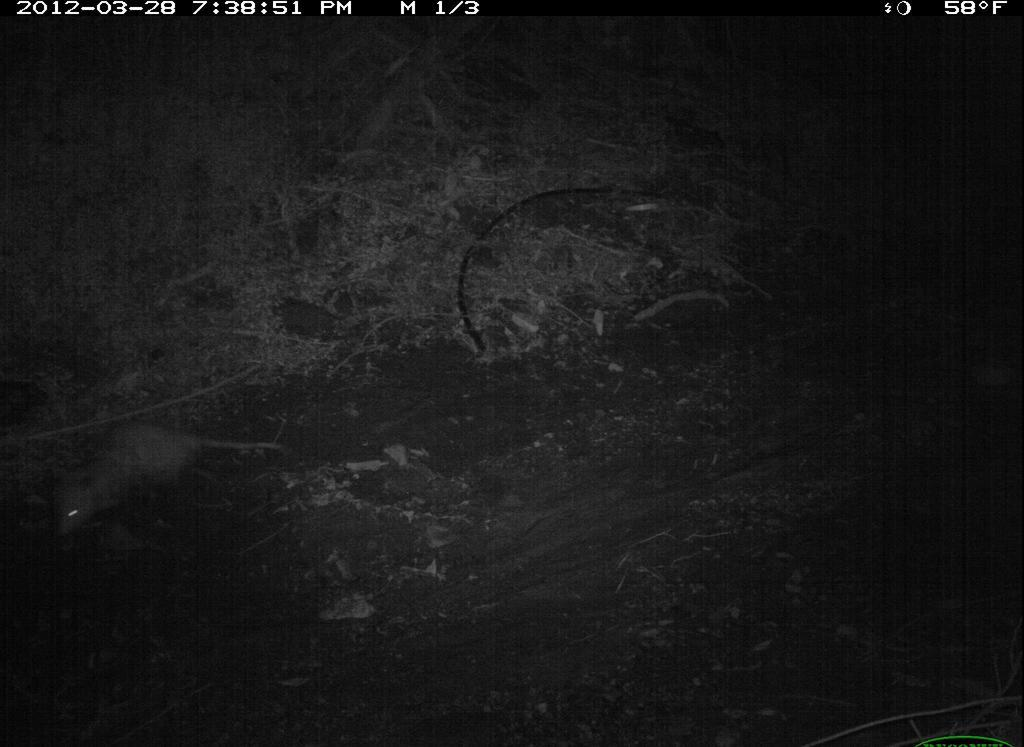opossum: (47, 405, 262, 543)
